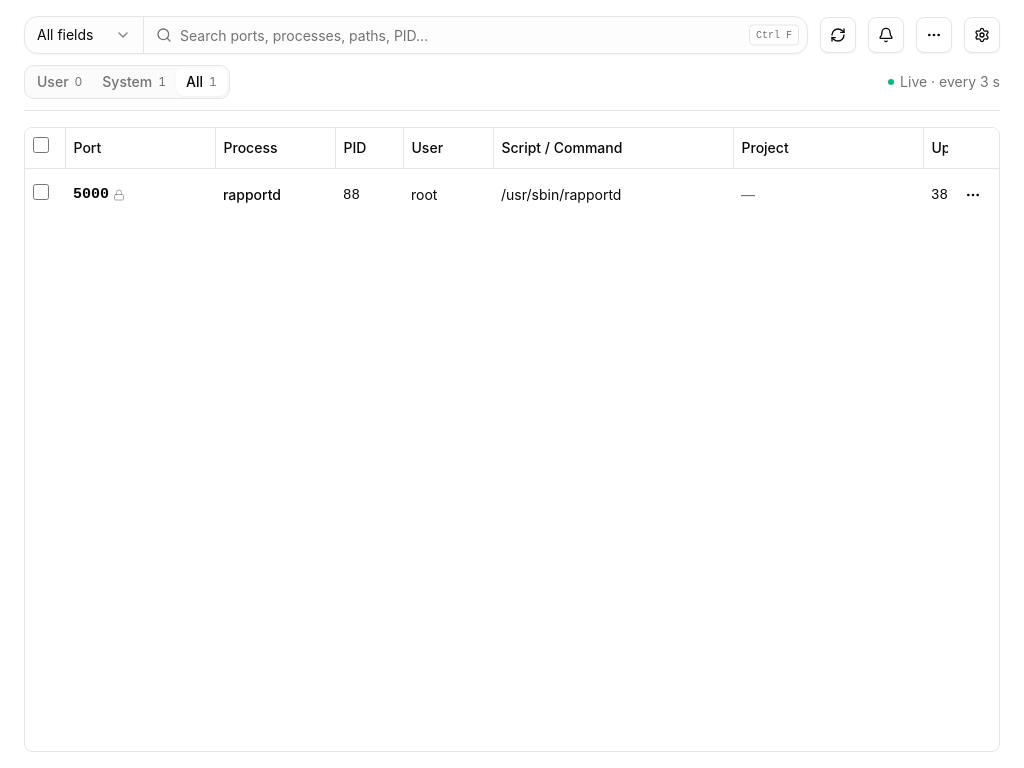
Test: stopping › starts the two confirmations over when the dialog is reopened
This screenshot has width=1024, height=768.
Click the button named "Actions for rapportd" at (973, 194), box top-left (955, 176), bottom-right (991, 212)
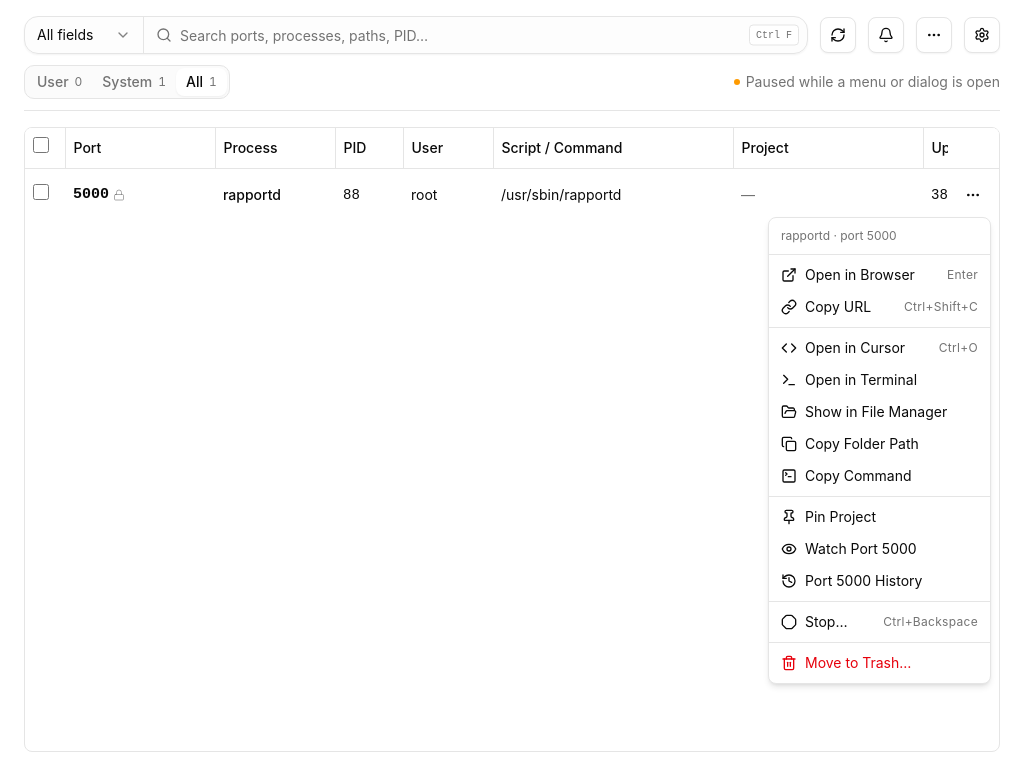
Click the menu item "Stop… Ctrl+Backspace" at (826, 622), box top-left (781, 613), bottom-right (978, 630)
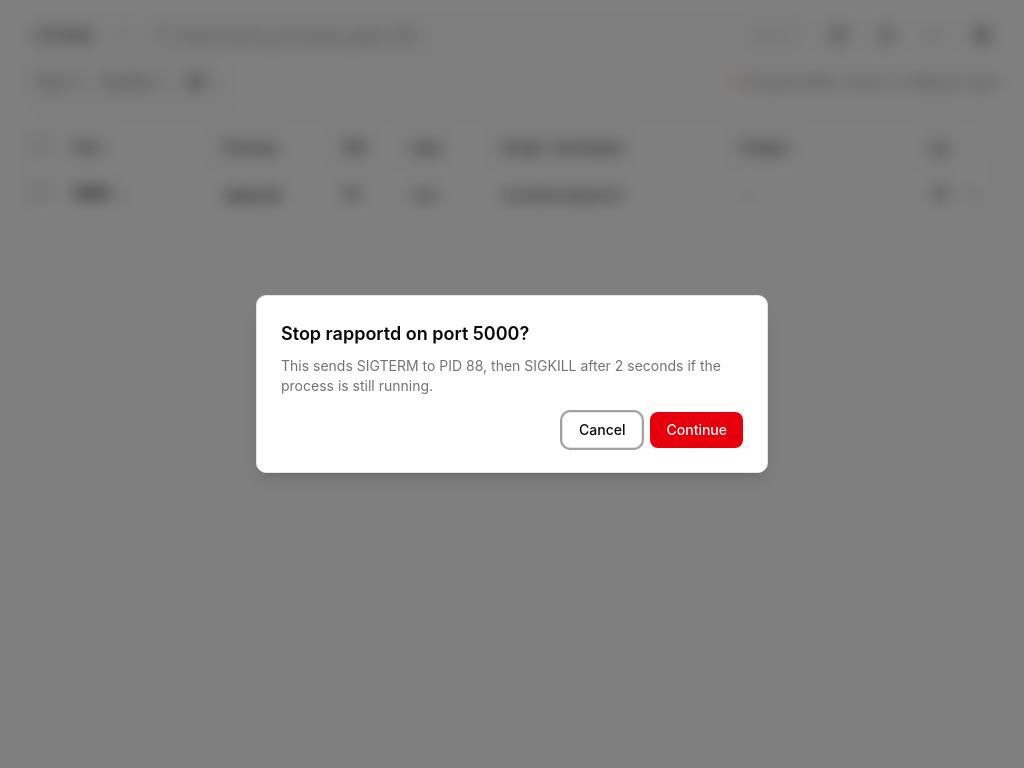
Click the button "Continue" at (697, 430), box top-left (650, 412), bottom-right (743, 448)
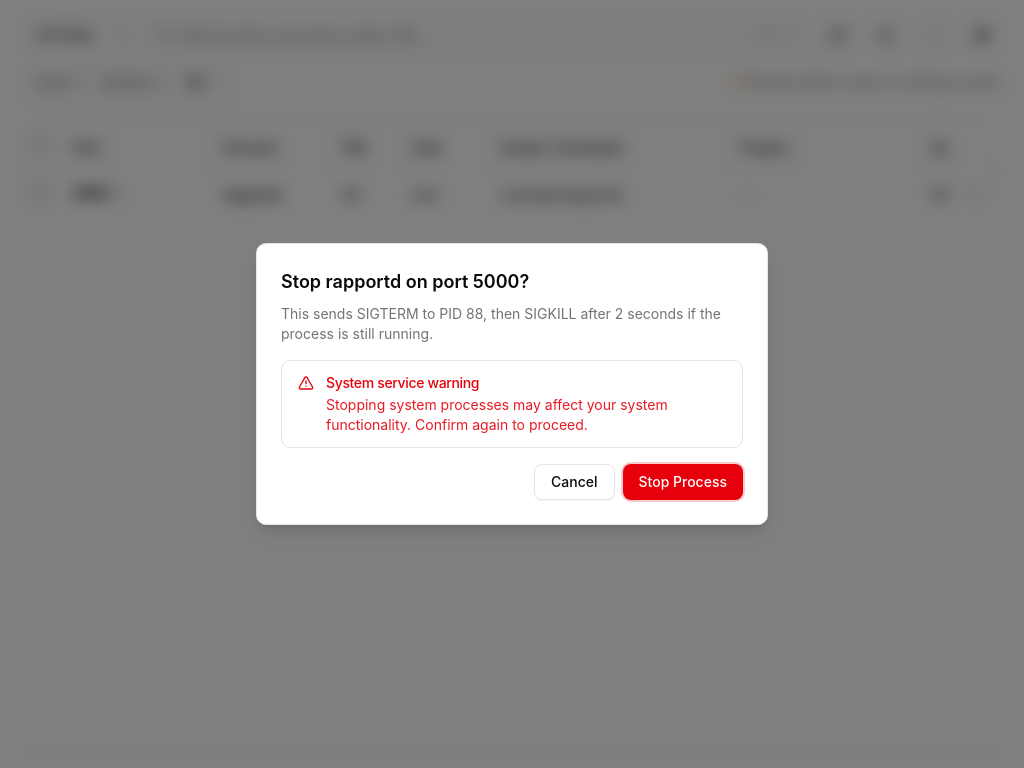
Click the button "Cancel" at (574, 482), box top-left (534, 464), bottom-right (614, 500)
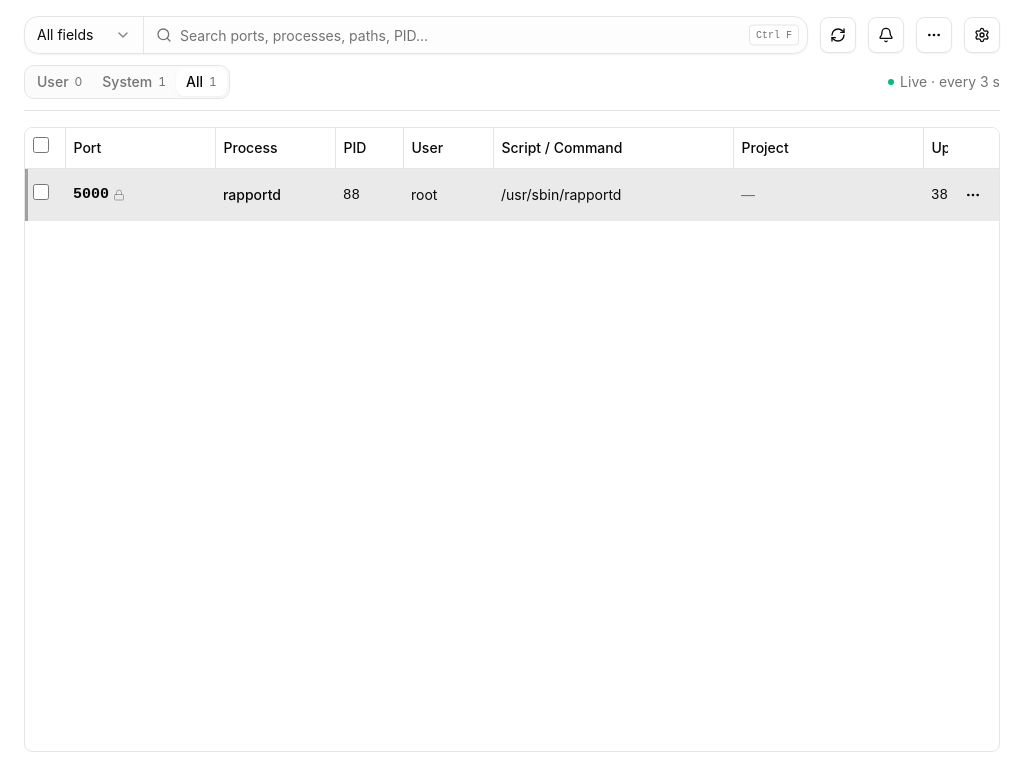
Expected: the dialog is gone
Click the button named "Actions for rapportd" at (973, 194), box top-left (955, 176), bottom-right (991, 212)
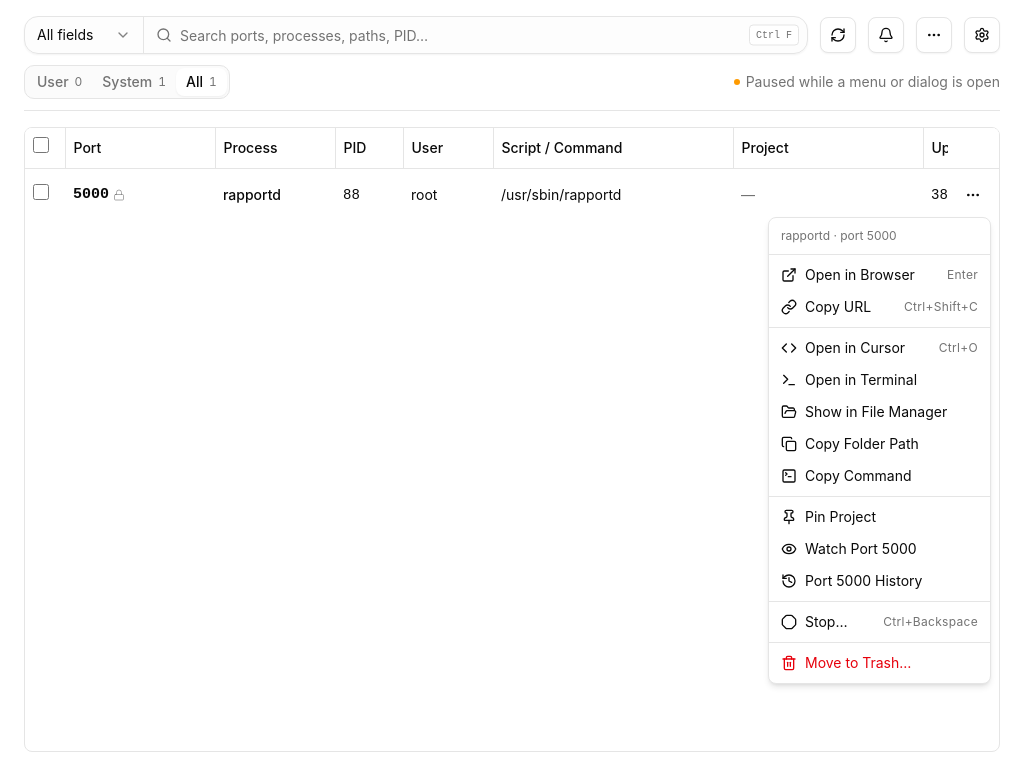
Click the menu item "Stop… Ctrl+Backspace" at (826, 622), box top-left (781, 613), bottom-right (978, 630)
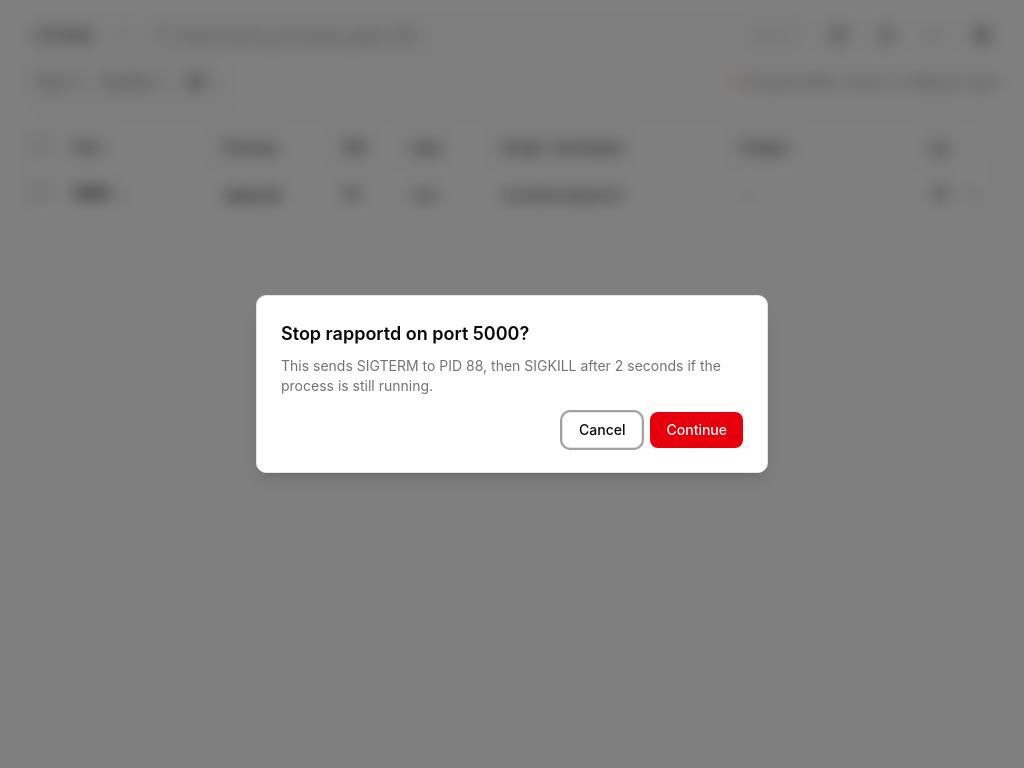
Expected: the button "Continue" is shown, top-left (650, 412), bottom-right (743, 448)
